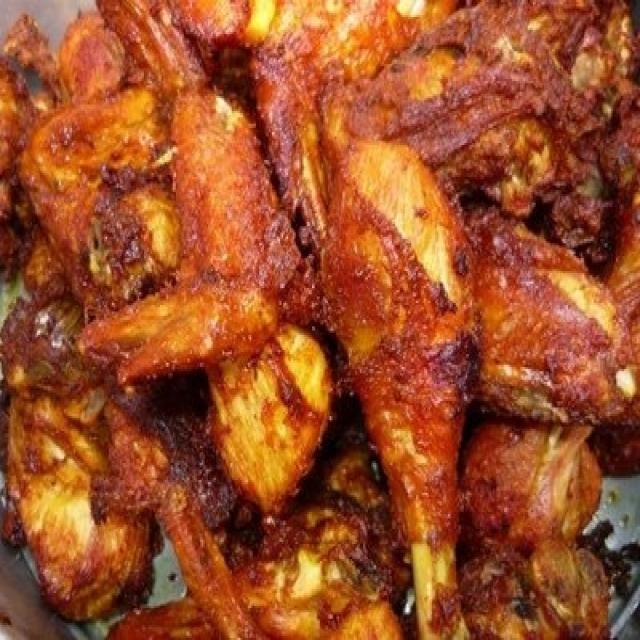鸡肉料理 含炸鸡: (1, 11, 636, 620)
